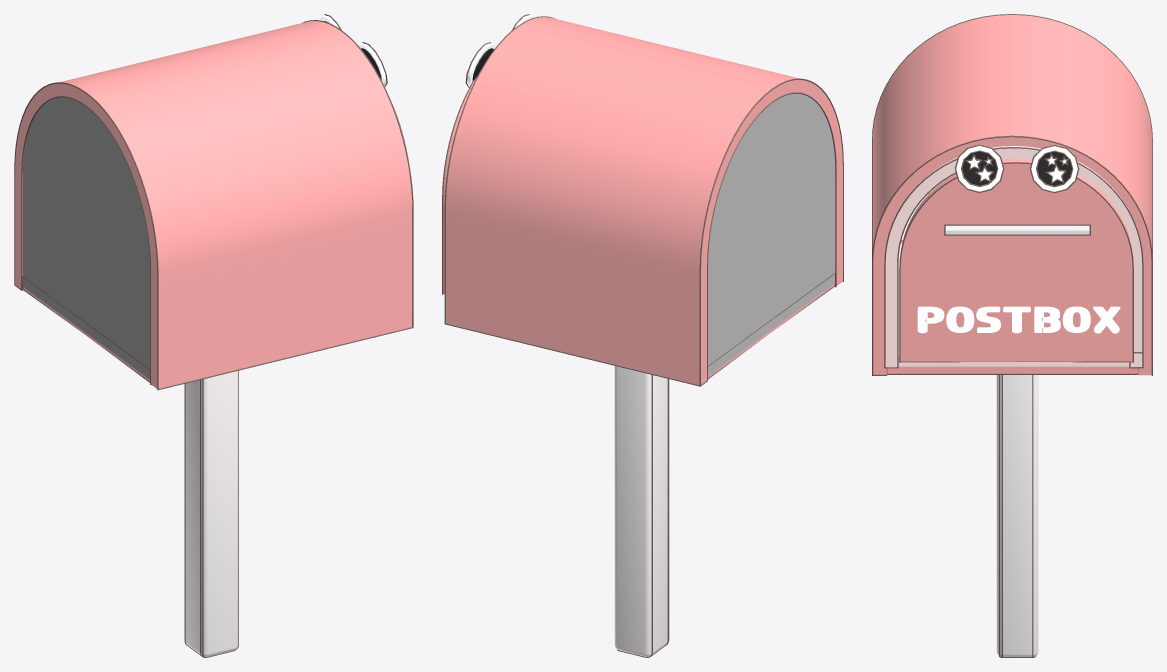
File: mailbox.glb
3 views of the same model, side by side, from view 1: azimuth 30°, elevation 25°; view 2: azimuth 150°, elevation 25°; view 3: azimuth 270°, elevation 25° (orthographic). The views are drawn at different scales.
Visible parts, largest first — view 1: 뒤에뚜껑-Mat, 뒤에뚜껑, 뒤에뚜껑-Mat.1, Sweep; view 2: 뒤에뚜껑-Mat, 뒤에뚜껑, 뒤에뚜껑-Mat.1, Sweep; view 3: 뒤에뚜껑-Mat, 뒤에뚜껑-Mat.1, Sweep, 뒤에뚜껑-Mat.2 (×2), 뒤에뚜껑-postboxtext, 뒤에뚜껑-Mat.3, 뒤에뚜껑.
Boxes of the visible parts, x1,y1,x2,y2 form: 뒤에뚜껑-Mat: (15,21,412,388); 뒤에뚜껑: (23,97,149,379); 뒤에뚜껑-Mat.1: (184,371,238,656); Sweep: (14,14,413,657); 뒤에뚜껑-Mat: (443,17,842,384); 뒤에뚜껑: (708,93,835,375); 뒤에뚜껑-Mat.1: (614,366,667,656); Sweep: (442,14,843,657); 뒤에뚜껑-Mat: (872,15,1152,375); 뒤에뚜껑-Mat.1: (996,375,1038,656); Sweep: (872,14,1152,657); 뒤에뚜껑-Mat.2 (×2): (885,146,1142,367); 뒤에뚜껑-postboxtext: (917,145,1120,333); 뒤에뚜껑-Mat.3: (962,151,1071,185); 뒤에뚜껑: (945,230,1089,234).
Size of the model in its own units: 2.26 by 4.58 by 2.03.
